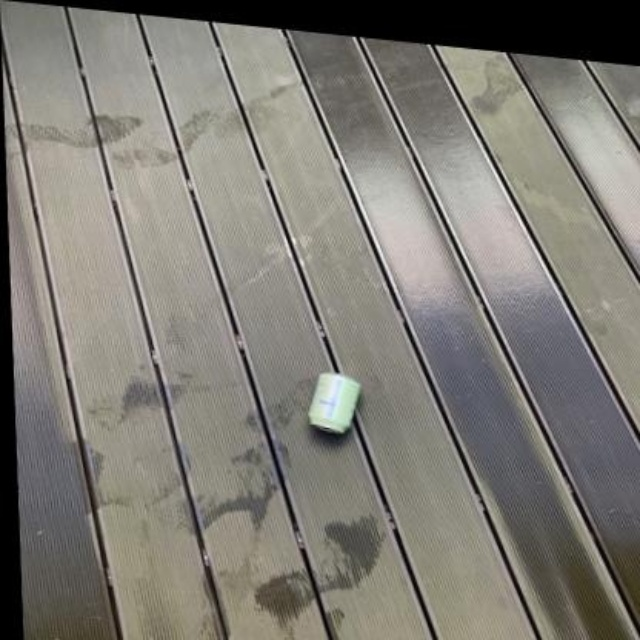trash: (308, 372, 360, 432)
